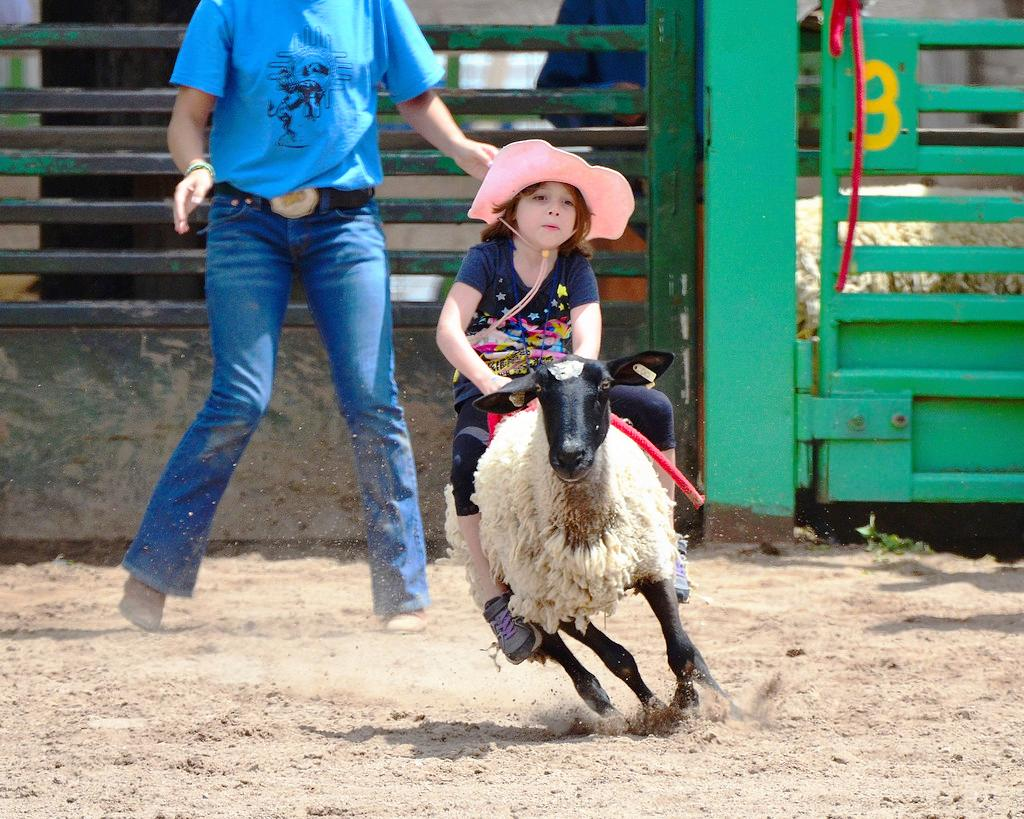Sheep: (434, 350, 734, 716)
